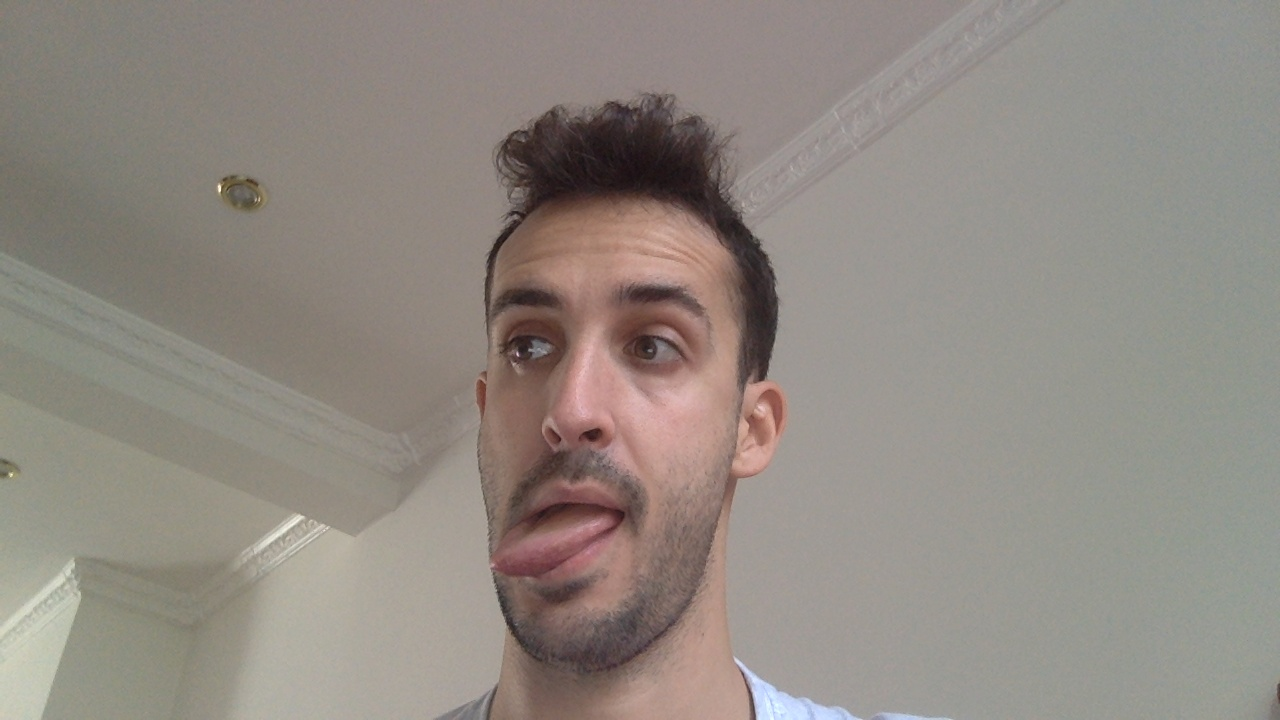tongue: (487, 479, 632, 586)
